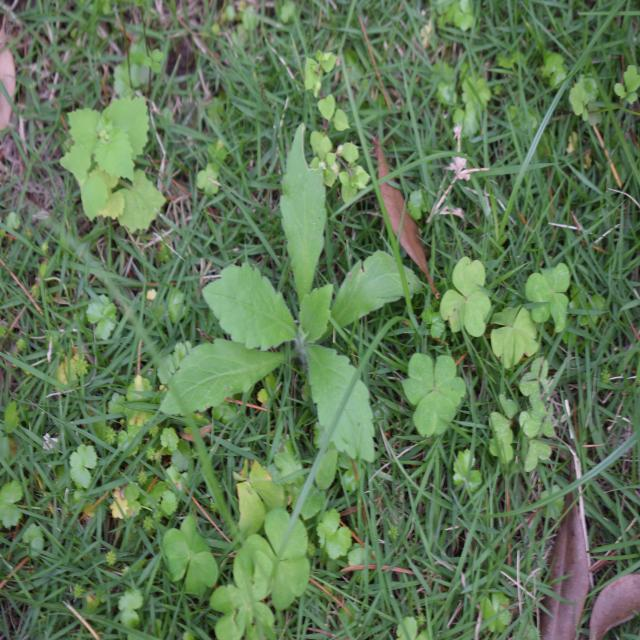horseweed: (176, 180, 416, 480)
